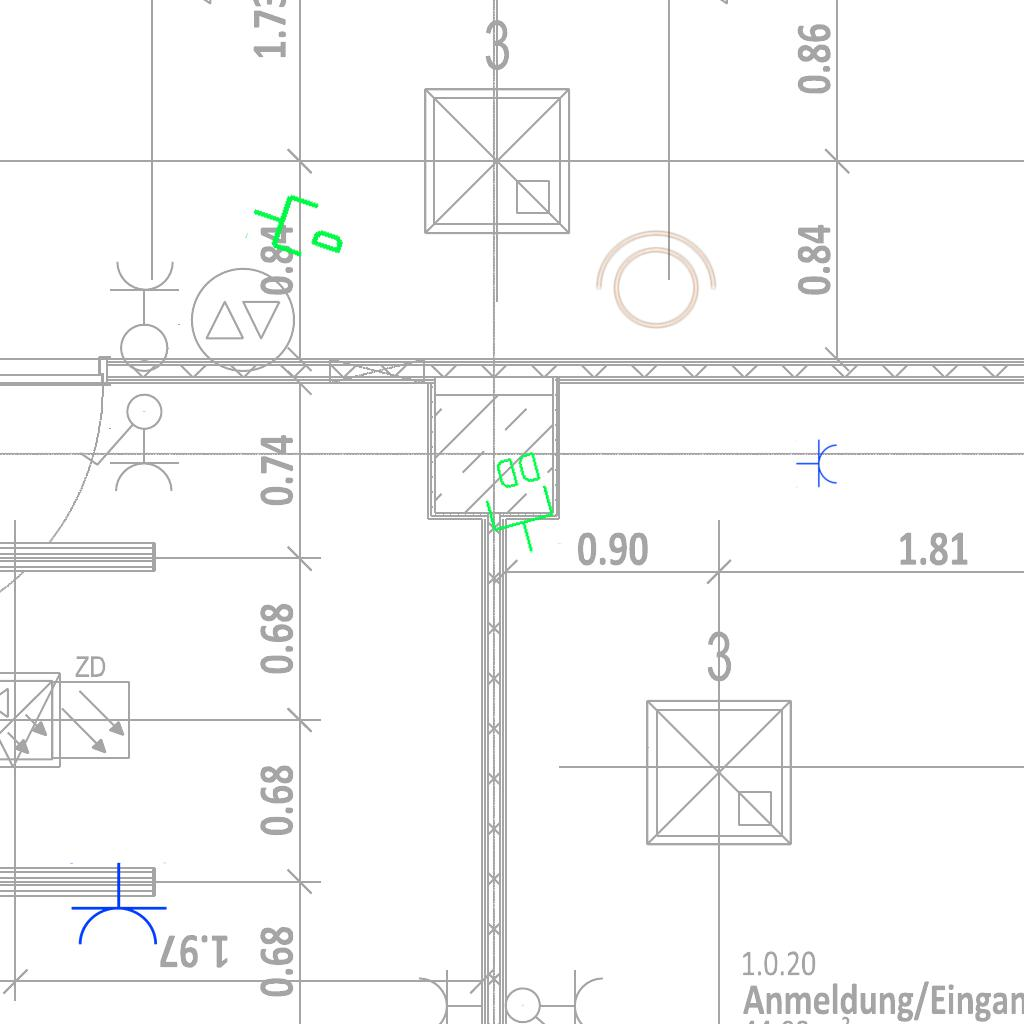Datenanschluss_einfach: (240, 176, 359, 274)
Datenanschluss_zweifach: (472, 445, 567, 564)
Scheinwerfer_fuer_Alarmbeleuchtung: (587, 227, 719, 339)
Schukosteckdose_einfach: (68, 862, 168, 949), (796, 439, 839, 489)
